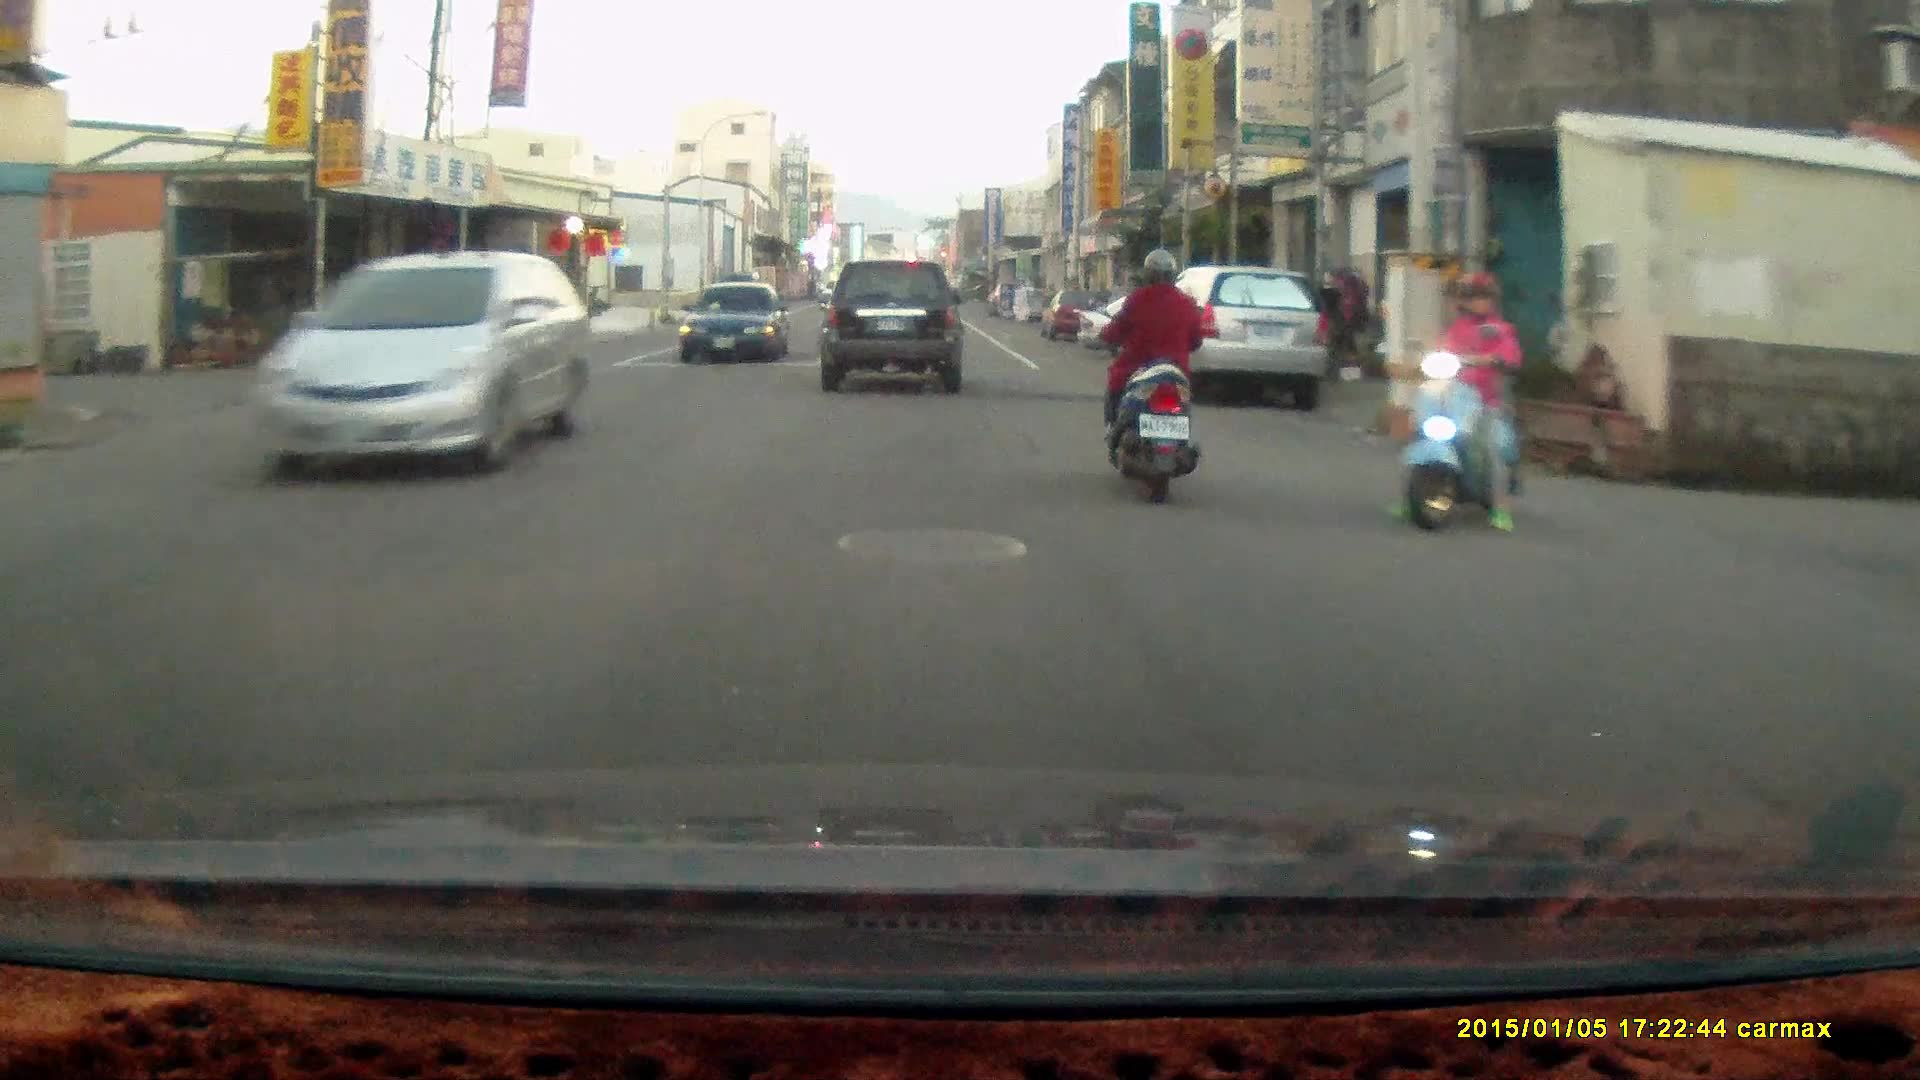rider: (1380, 268, 1521, 529), (1100, 242, 1200, 504)
vehicle: (253, 245, 595, 480), (1139, 263, 1329, 406), (820, 257, 965, 397), (1079, 283, 1260, 358), (685, 280, 793, 366)
